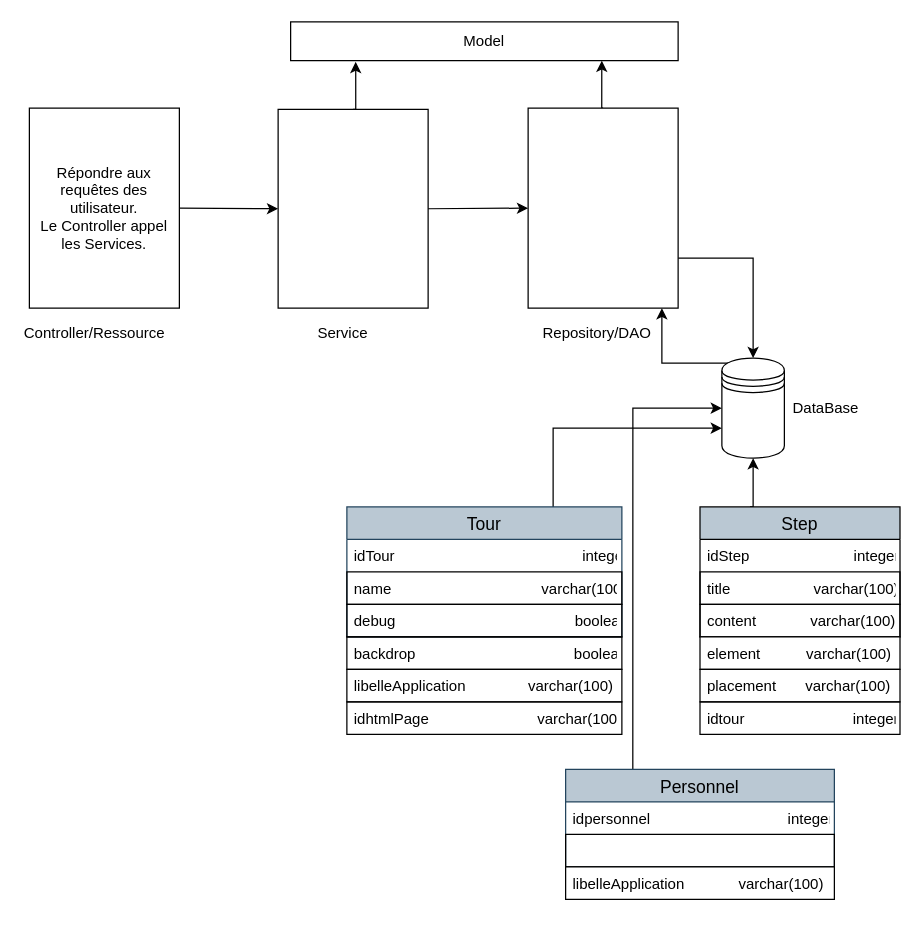
This 921x925 diagram has some shape labels left out. The centre of each missing label's shape, as x and y in pixels:
"Accès aux données, effectuer des requêtes SQL" belongs at (602,207).
"identifiant varchar(100)" belongs at (699,850).
"Le Service appel les Repositories pour interagir avec la BD." belongs at (352,208).
